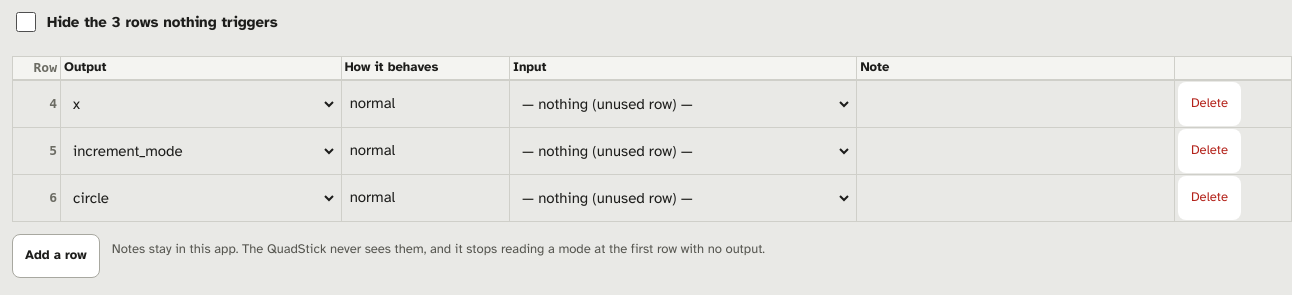
Test: TableView › explains an empty table rather than showing nothing
Click the checkbox labelled "Hide the 3 rows nothing triggers". click: (26, 22)
box: x1=16 y1=12 x2=36 y2=32
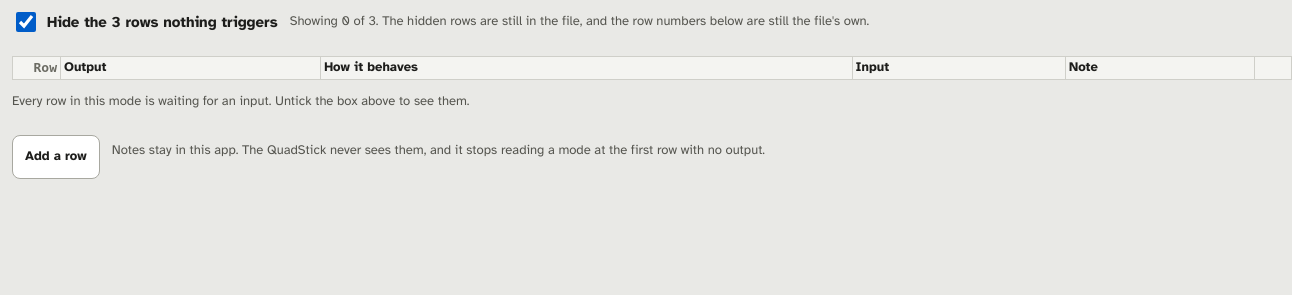
Check: the text "Every row in this mode is waiting for an input" is shown, box x1=12 y1=92 x2=470 y2=108
